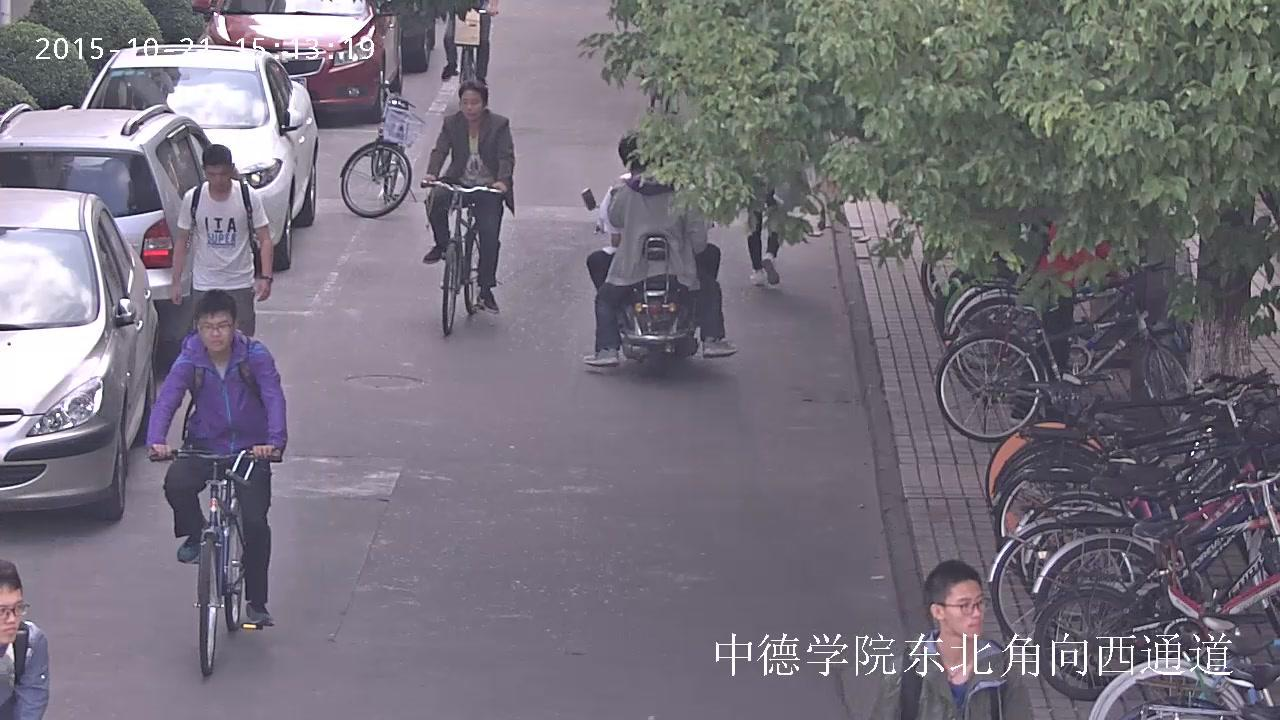face: (944, 581, 984, 640), (0, 583, 24, 645), (199, 309, 232, 350), (459, 91, 482, 119), (207, 164, 229, 190)
